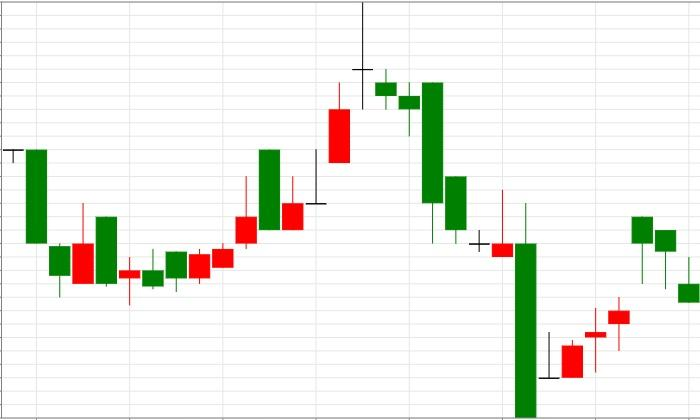evening_star_fall: (188, 2, 397, 284)
